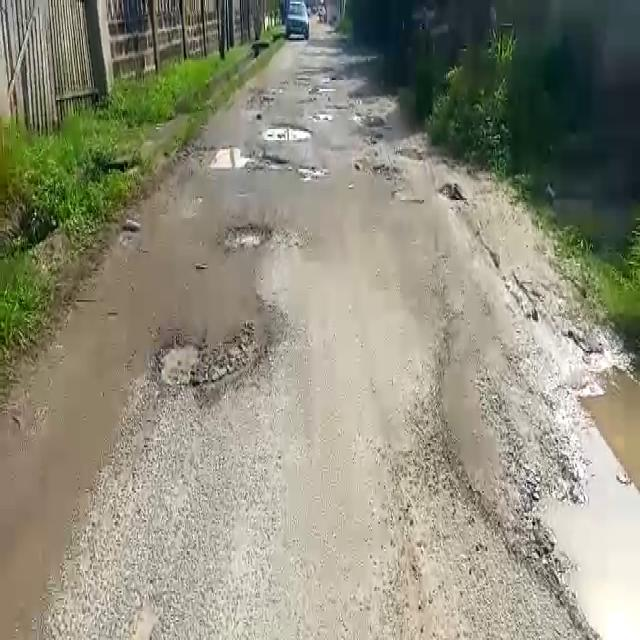Pothole: (534, 357, 639, 637), (150, 324, 278, 404), (216, 219, 277, 253), (203, 145, 279, 170), (260, 120, 312, 140)
